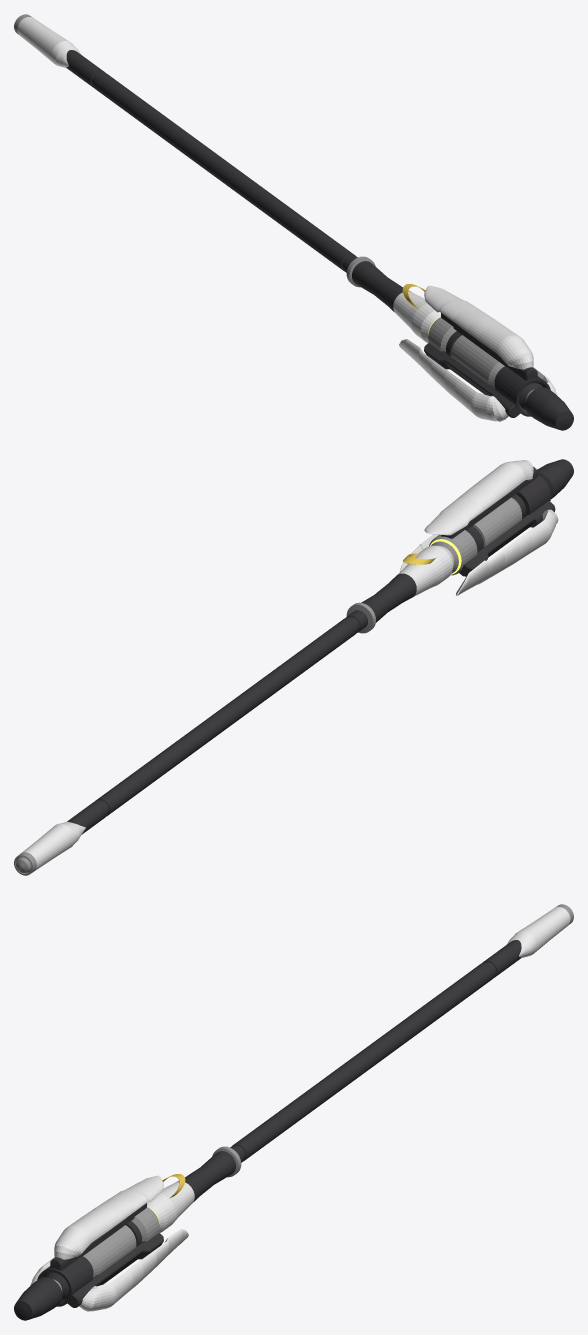
Rendered from Caduceus Staff.fbx.
The picture shows the model from 3 angles, top to bottom: view 1: azimuth 30°, elevation 25°; view 2: azimuth 150°, elevation 25°; view 3: azimuth 330°, elevation 25°; orthographic projection.
Parts seen in each view (by area): view 1: Body, Cylinder, Cylinder.002, Back, Cube.002, Cube; view 2: Body, Cylinder, Cylinder.002, Back, Cube.002, Cube; view 3: Body, Cylinder, Cylinder.001, Back, Cube.001, Cube.
Boxes of the visible parts, box(x1,y1,x2,y2) form: Body: box(66, 50, 573, 430); Cylinder: box(424, 285, 533, 369); Cylinder.002: box(399, 339, 508, 421); Back: box(14, 14, 80, 67); Cube.002: box(424, 343, 520, 417); Cube: box(441, 313, 537, 380); Body: box(67, 459, 573, 834); Cylinder: box(424, 460, 533, 535); Cylinder.002: box(456, 509, 558, 595); Back: box(14, 821, 85, 875); Cube.002: box(459, 501, 555, 576); Cube: box(441, 466, 537, 538); Body: box(14, 940, 521, 1320); Cylinder: box(54, 1175, 163, 1259); Cylinder.001: box(79, 1229, 188, 1311); Back: box(507, 904, 573, 957); Cube.001: box(67, 1233, 163, 1307); Cube: box(50, 1203, 146, 1270).
Size of the model in its own units: 16.75 by 15.36 by 199.
